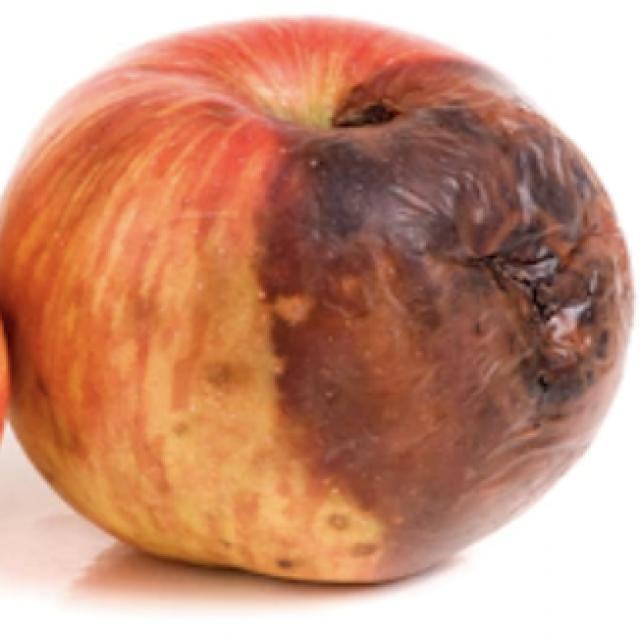Rotten: (38, 40, 607, 588)
